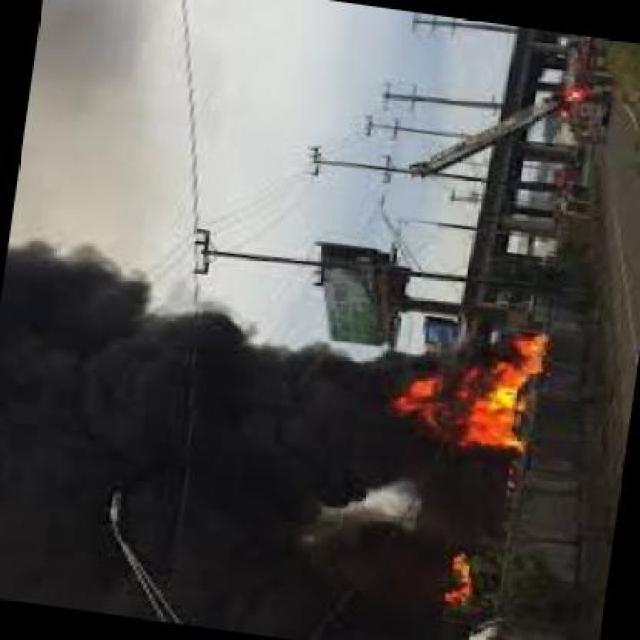Fire: (384, 329, 552, 462), (444, 552, 482, 610)
Smoke: (7, 243, 374, 640), (361, 467, 516, 536)
